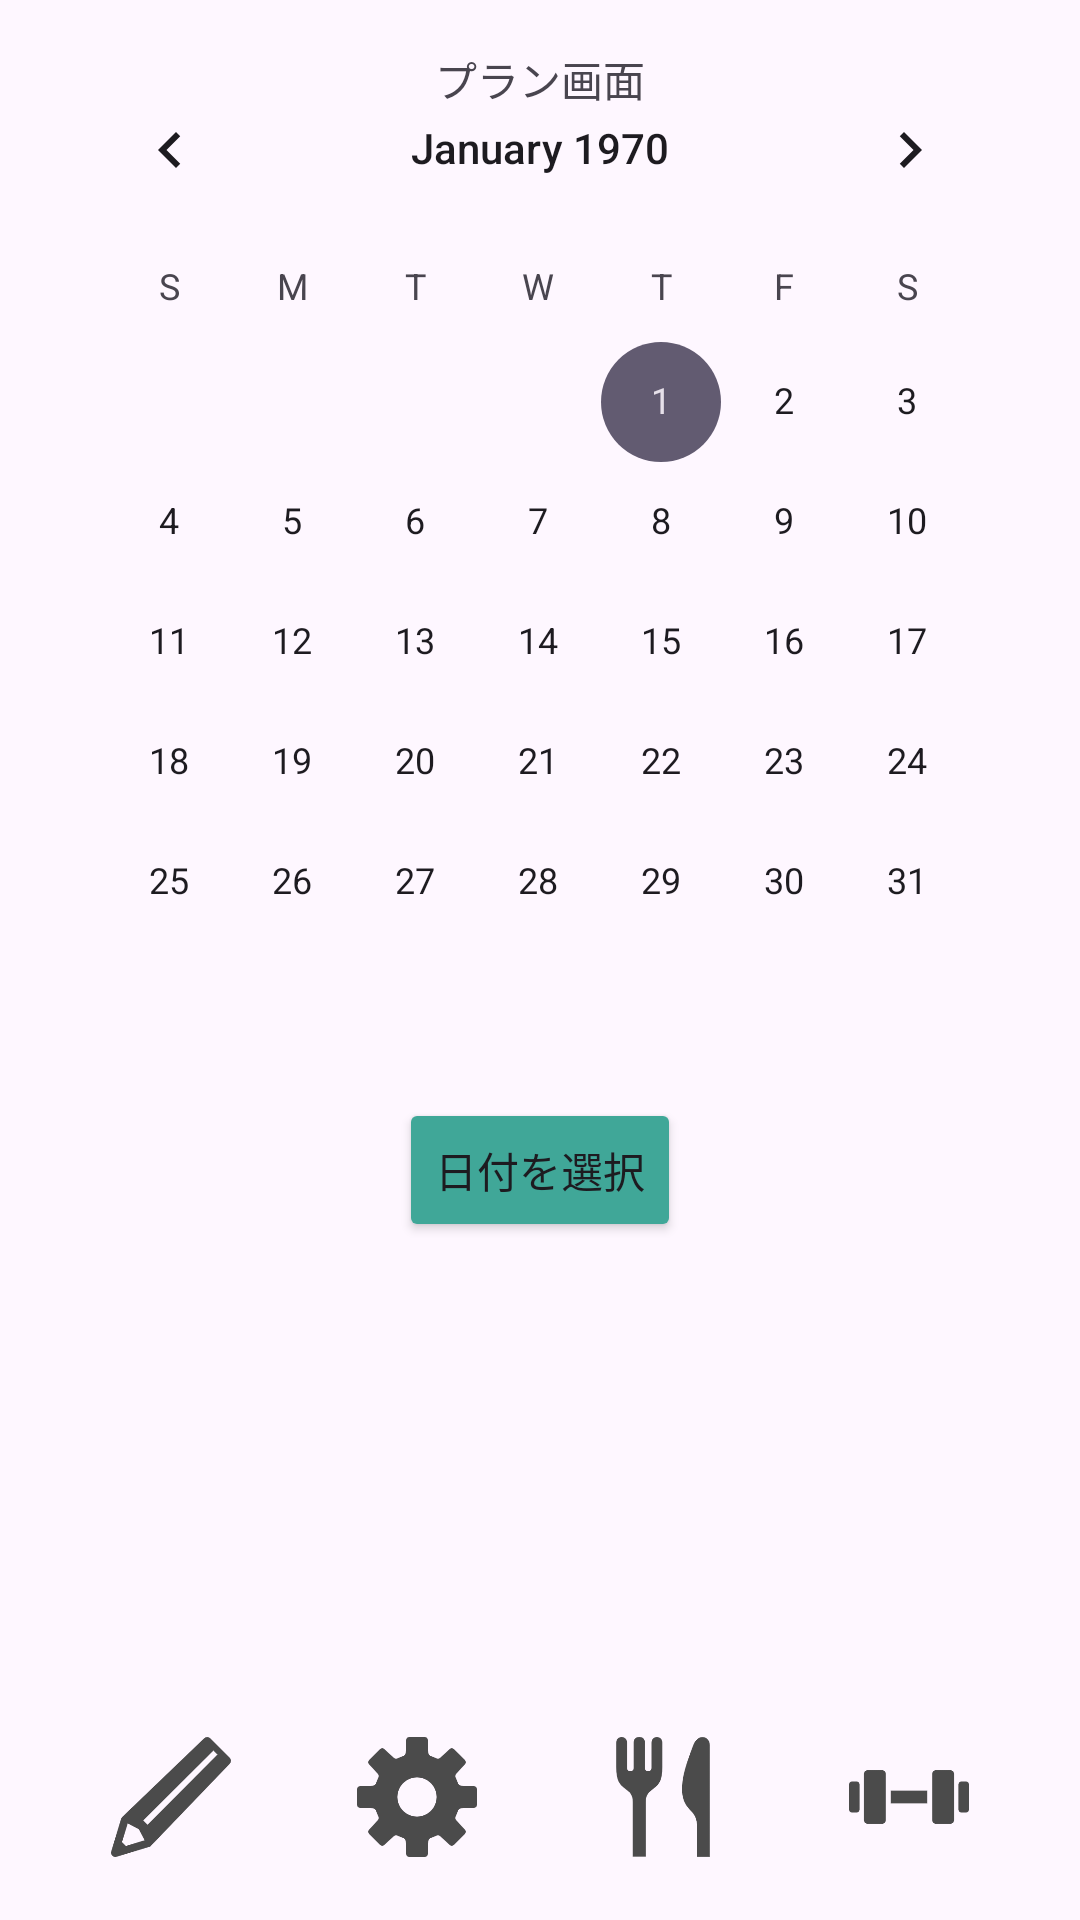

Locate icon controls on the screen. Image size 1080 x 1920, boxes as (x1, y1, x2, y2).
danberu bl: (849, 1770, 969, 1824)
dishes: (616, 1737, 710, 1857)
gear: (357, 1737, 477, 1857)
memo: (111, 1737, 231, 1857)
